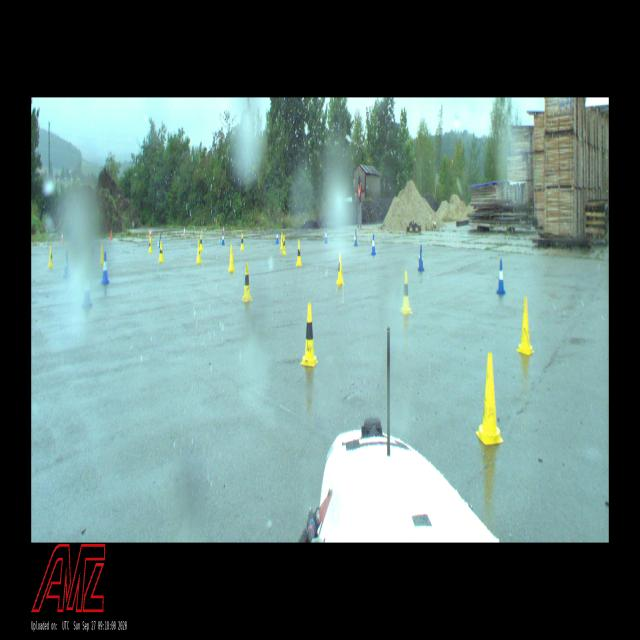blue_cone: (82, 266, 92, 309), (497, 260, 505, 294), (101, 252, 109, 284), (63, 249, 70, 278), (418, 245, 424, 271), (371, 233, 376, 254), (354, 230, 358, 246), (324, 227, 327, 243), (276, 230, 279, 243), (222, 233, 225, 245), (158, 234, 160, 248)
orange_cone: (222, 225, 225, 234), (183, 227, 186, 235), (110, 230, 112, 240), (61, 232, 63, 242), (149, 228, 151, 237)
yellow_cone: (479, 354, 500, 443), (302, 304, 316, 366), (519, 296, 532, 354), (401, 270, 411, 314), (242, 263, 252, 301), (336, 253, 344, 285), (228, 245, 235, 271), (296, 240, 302, 266), (48, 246, 54, 268), (196, 241, 202, 263), (158, 242, 164, 262), (100, 243, 104, 264), (282, 235, 286, 255), (240, 233, 244, 250), (148, 238, 152, 252), (200, 234, 203, 250), (280, 233, 282, 248)
